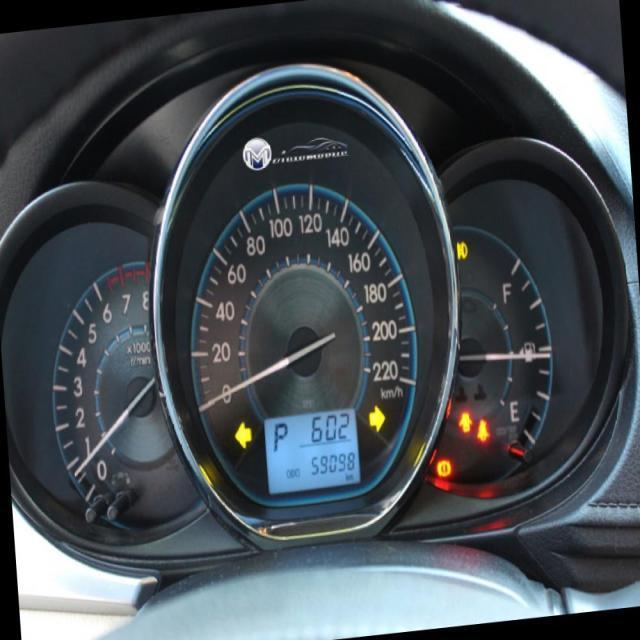Seat Belt: (478, 418, 490, 441)
